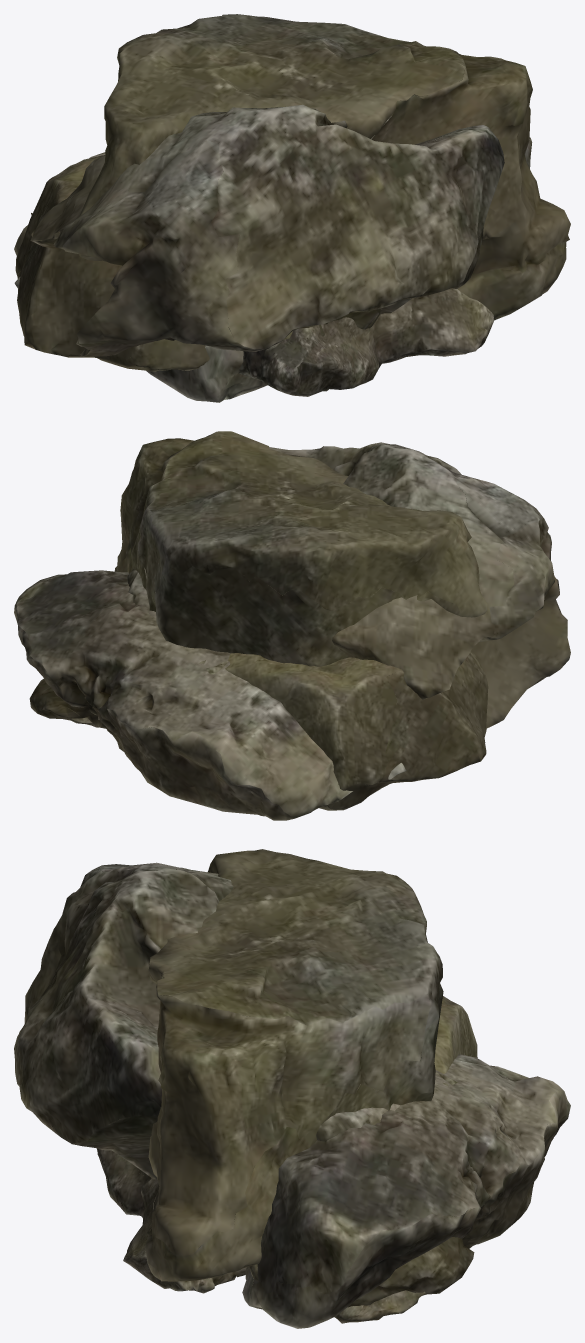
File: rock_moss_set_02.glb
3 renders of one model, top to bottom at view 1: azimuth 30°, elevation 25°; view 2: azimuth 150°, elevation 25°; view 3: azimuth 270°, elevation 25°, orthographic. The views are drawn at different scales.
Visible parts, largest first — view 1: mrock_11, mrock_13, mrock_8, mrock_7, mrock_10, mrock_12; view 2: mrock_13, mrock_10, mrock_11, mrock_7, mrock_12; view 3: mrock_13, mrock_10, mrock_11, mrock_8, mrock_12, mrock_7, mrock_9.
Part boxes in pixels (left/top/right/bottom): mrock_11: left=30, top=104, right=504, bottom=357; mrock_13: left=79, top=14, right=570, bottom=320; mrock_8: left=238, top=288, right=493, bottom=396; mrock_7: left=15, top=155, right=375, bottom=371; mrock_10: left=14, top=137, right=532, bottom=402; mrock_12: left=284, top=309, right=380, bottom=339; mrock_13: left=114, top=431, right=487, bottom=666; mrock_10: left=14, top=570, right=406, bottom=820; mrock_11: left=127, top=442, right=570, bottom=728; mrock_7: left=225, top=651, right=488, bottom=810; mrock_12: left=29, top=660, right=228, bottom=728; mrock_13: left=145, top=849, right=443, bottom=1281; mrock_10: left=242, top=1054, right=570, bottom=1328; mrock_11: left=14, top=862, right=400, bottom=1179; mrock_8: left=96, top=1148, right=246, bottom=1293; mrock_12: left=234, top=1072, right=484, bottom=1317; mrock_7: left=434, top=996, right=477, bottom=1073; mrock_9: left=335, top=1290, right=426, bottom=1323.
Size of the model in its own units: 2.49 by 1.31 by 2.13.
Materials: 7 (7 with a texture image).
